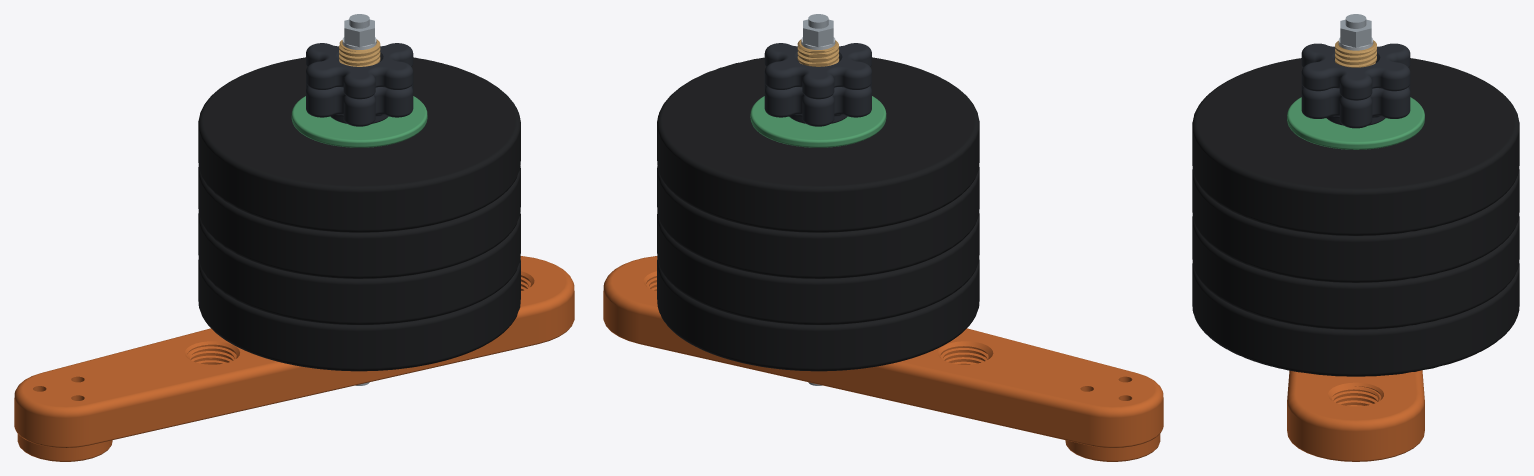
Rendered from load_arm_assembly_ak60.glb.
3 views of the same model, side by side, from view 1: azimuth 30°, elevation 25°; view 2: azimuth 150°, elevation 25°; view 3: azimuth 270°, elevation 25° (orthographic).
Parts seen in each view (by area): view 1: weight_plates/weight_plate (×4), load_arm_ak60, lock_knob, clamp_plate, star_knob, load_pin, m12_hardware/m12_nut; view 2: weight_plates/weight_plate (×4), load_arm_ak60, lock_knob, clamp_plate, star_knob, load_pin, m12_hardware/m12_nut; view 3: weight_plates/weight_plate (×4), load_arm_ak60, lock_knob, clamp_plate, star_knob, load_pin, m12_hardware/m12_nut.
Part boxes in pixels (x1=…): weight_plates/weight_plate (×4): x1=198, y1=57, x2=520, y2=371; load_arm_ak60: x1=14, y1=256, x2=574, y2=461; lock_knob: x1=306, y1=43, x2=413, y2=99; clamp_plate: x1=291, y1=96, x2=427, y2=147; star_knob: x1=306, y1=82, x2=413, y2=126; load_pin: x1=339, y1=39, x2=380, y2=66; m12_hardware/m12_nut: x1=344, y1=19, x2=374, y2=47; weight_plates/weight_plate (×4): x1=657, y1=57, x2=979, y2=371; load_arm_ak60: x1=603, y1=256, x2=1163, y2=461; lock_knob: x1=764, y1=43, x2=871, y2=99; clamp_plate: x1=750, y1=96, x2=886, y2=147; star_knob: x1=764, y1=82, x2=871, y2=126; load_pin: x1=797, y1=39, x2=839, y2=66; m12_hardware/m12_nut: x1=803, y1=19, x2=833, y2=47; weight_plates/weight_plate (×4): x1=1192, y1=58, x2=1519, y2=376; load_arm_ak60: x1=1287, y1=370, x2=1424, y2=461; lock_knob: x1=1301, y1=43, x2=1410, y2=100; clamp_plate: x1=1287, y1=97, x2=1424, y2=149; star_knob: x1=1301, y1=84, x2=1410, y2=128; load_pin: x1=1335, y1=40, x2=1376, y2=67; m12_hardware/m12_nut: x1=1340, y1=19, x2=1371, y2=47.
Size of the model in its own units: 0.37 by 0.236 by 0.1899.
